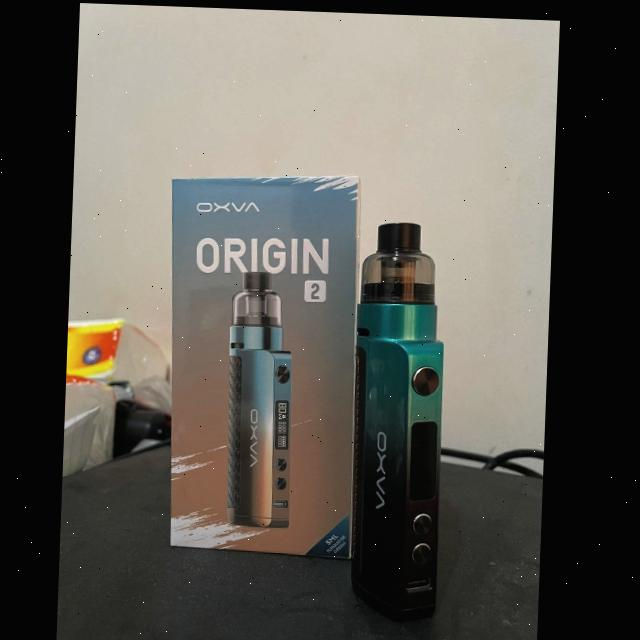vape: (349, 218, 453, 622), (226, 269, 301, 527)
